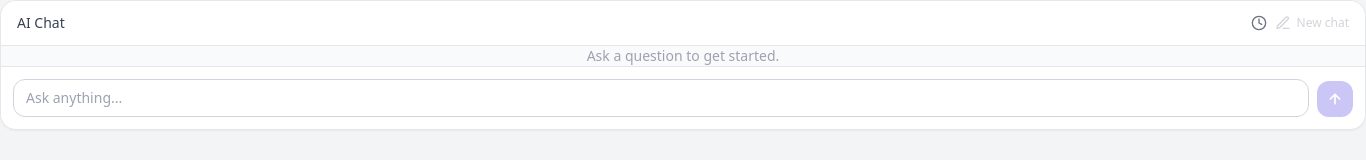
Test case: RagChat — auth error › shows session expired message on 401
Type "hi" into the text box at {"x": 661, "y": 98}, box [13, 79, 1309, 117]
Then press Enter
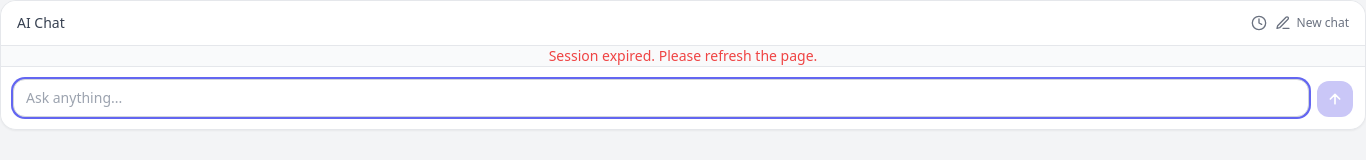
Expected: the text "Session expired. Please refresh the page." is shown, [549, 46, 817, 65]
